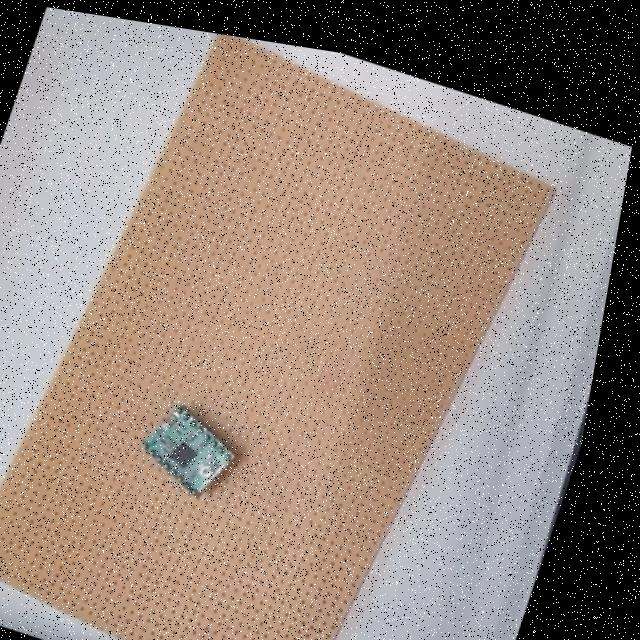Chip: (131, 386, 250, 508)
